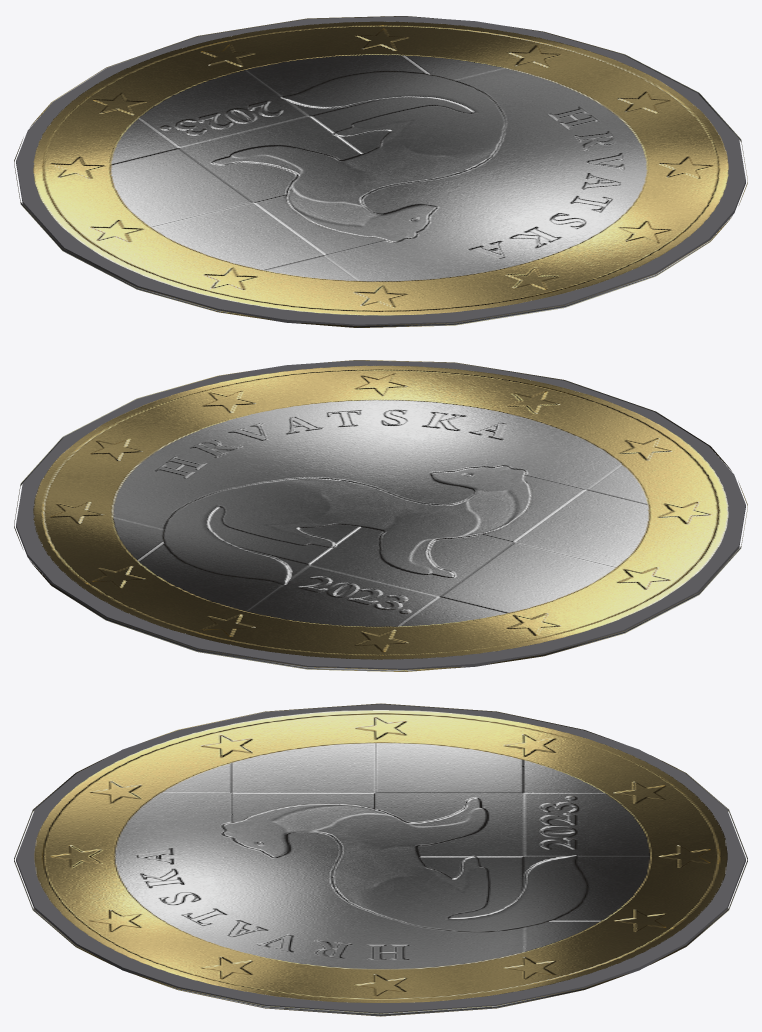
The model's file is eurcr.obj.
The picture shows the model from 3 angles, top to bottom: view 1: azimuth 30°, elevation 25°; view 2: azimuth 150°, elevation 25°; view 3: azimuth 270°, elevation 25°; orthographic projection.
Parts seen in each view (by area): view 1: Part2, Part1, Part7, Part5, Part6; view 2: Part2, Part1, Part6, Part5, Part7; view 3: Part2, Part1, Part4, Part5.
Boxes of the visible parts, box(x1,y1,x2,y2) form: Part2: box(33, 21, 728, 315); Part1: box(16, 16, 745, 325); Part7: box(296, 216, 732, 327); Part5: box(14, 137, 275, 320); Part6: box(30, 16, 437, 126); Part2: box(33, 365, 728, 659); Part1: box(16, 360, 745, 669); Part6: box(29, 560, 465, 671); Part5: box(486, 481, 747, 664); Part7: box(324, 360, 731, 470); Part2: box(34, 710, 727, 1002); Part1: box(16, 704, 745, 1013); Part4: box(130, 972, 631, 1016); Part5: box(142, 703, 619, 742).
Bounding box in the file's own units: 7.07 × 0.072 × 7.07.
2 materials, 1 textured.
